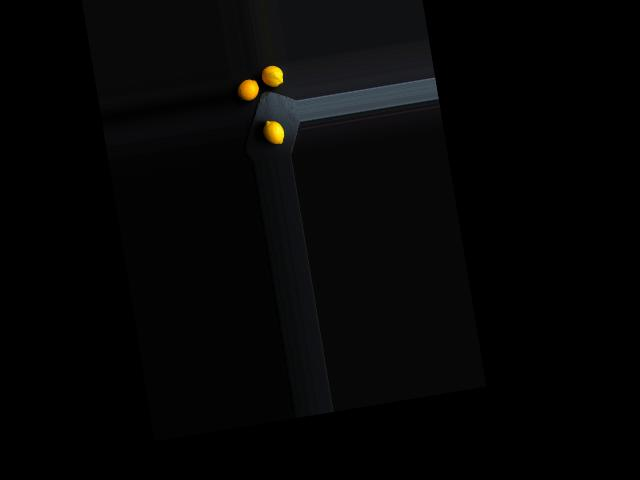lemon: (258, 62, 285, 90)
